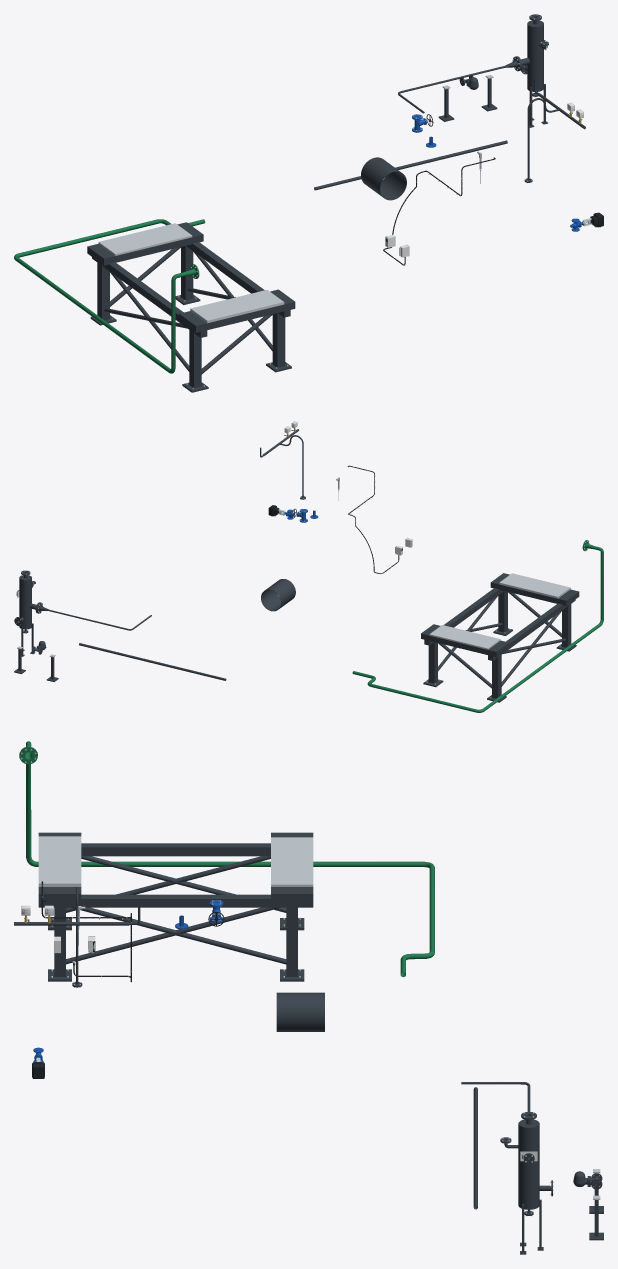
3 views of the same model, one above another, from view 1: azimuth 30°, elevation 25°; view 2: azimuth 150°, elevation 25°; view 3: azimuth 270°, elevation 25° (orthographic). The views are drawn at different scales.
Parts seen in each view (by area): view 1: deaerator_support / dark, deaerator_support / steel, deaerator_feed / green, separator_fv8 / dark, flue_spacer / dark, bottom_discharge / dark, pressure_header / dark, tds_to_fv / dark; view 2: deaerator_support / dark, deaerator_support / steel, deaerator_feed / green, separator_fv8 / dark, flue_spacer / dark, bottom_discharge / dark; view 3: deaerator_support / dark, deaerator_support / steel, deaerator_feed / green, separator_fv8 / dark, flue_spacer / dark, pressure_header / dark.
Boxes of the visible parts, bbox=[...] form: deaerator_support / dark: bbox=[87, 222, 295, 392]; deaerator_support / steel: bbox=[98, 223, 288, 389]; deaerator_feed / green: bbox=[14, 219, 205, 373]; separator_fv8 / dark: bbox=[516, 14, 548, 127]; flue_spacer / dark: bbox=[361, 157, 406, 200]; bottom_discharge / dark: bbox=[314, 140, 507, 190]; pressure_header / dark: bbox=[524, 78, 585, 182]; tds_to_fv / dark: bbox=[398, 56, 521, 113]; deaerator_support / dark: bbox=[421, 573, 579, 702]; deaerator_support / steel: bbox=[426, 573, 570, 698]; deaerator_feed / green: bbox=[352, 540, 603, 712]; separator_fv8 / dark: bbox=[14, 570, 40, 656]; flue_spacer / dark: bbox=[261, 579, 295, 611]; bottom_discharge / dark: bbox=[79, 643, 226, 680]; deaerator_support / dark: bbox=[38, 832, 313, 981]; deaerator_support / steel: bbox=[38, 836, 313, 977]; deaerator_feed / green: bbox=[19, 741, 434, 976]; separator_fv8 / dark: bbox=[500, 1111, 552, 1254]; flue_spacer / dark: bbox=[276, 992, 324, 1031]; pressure_header / dark: bbox=[14, 887, 140, 987].
Size of the model in its own units: 8.64 by 2.87 by 6.1.
